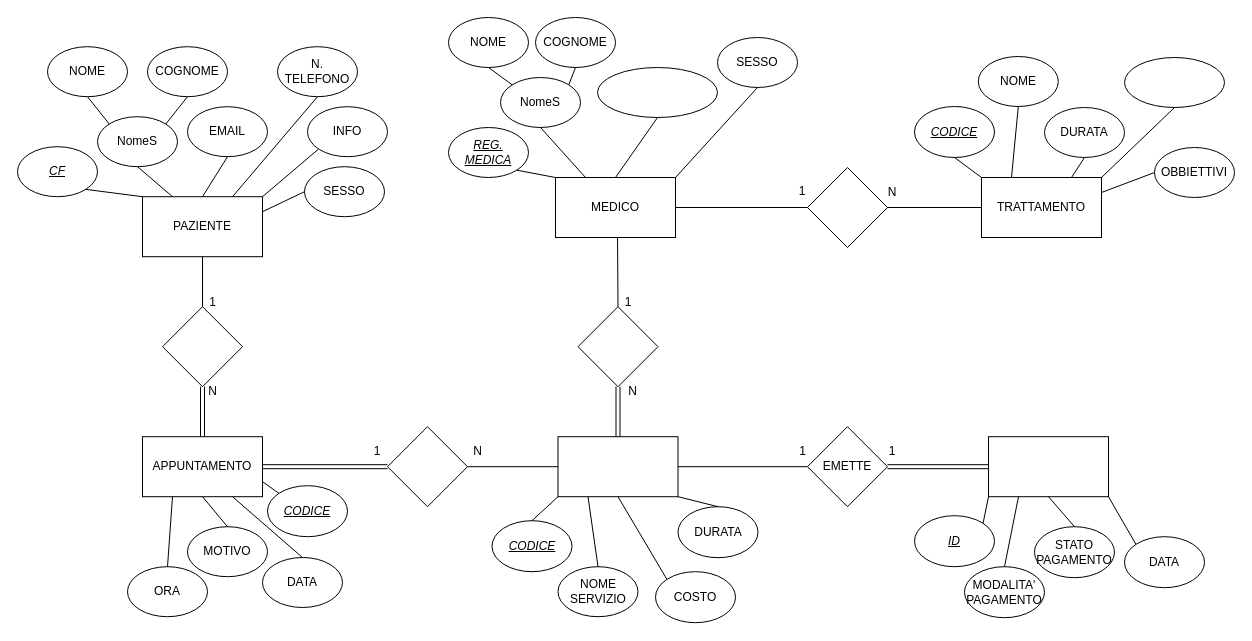
Image size: 1252x641. Some labels were removed from this diagram. Each missing label, with the centre of its shape:
"AVVERTENZE" goes at [1174,82].
"EROGA" goes at [617,346].
"FATTURA" goes at [1048,466].
"PRENOTA" goes at [202,346].
"RICHIEDE" goes at [427,466].
"RILASCIA" goes at [847,207].
"SERVIZIO" goes at [617,466].
"SPECIALIZZAZIONE" goes at [657,92].
